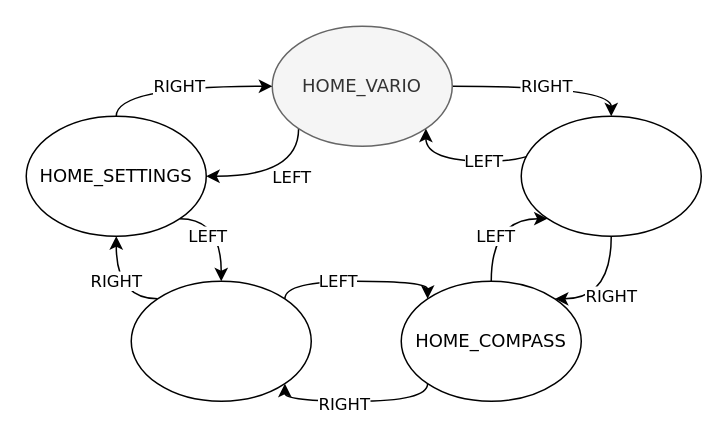
The diagram is 728 pixels wide and 440 high, and some of its shapes have lost their labels. Each missing label, with the centre of its shape:
HOME_ALL: (220,340)
HOME_GPS: (610,175)
